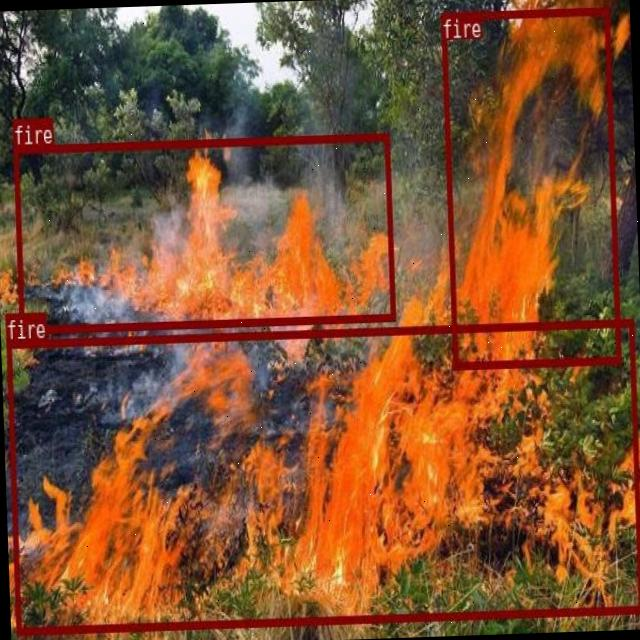fire: (5, 318, 640, 633), (13, 132, 394, 332), (440, 5, 620, 368)
